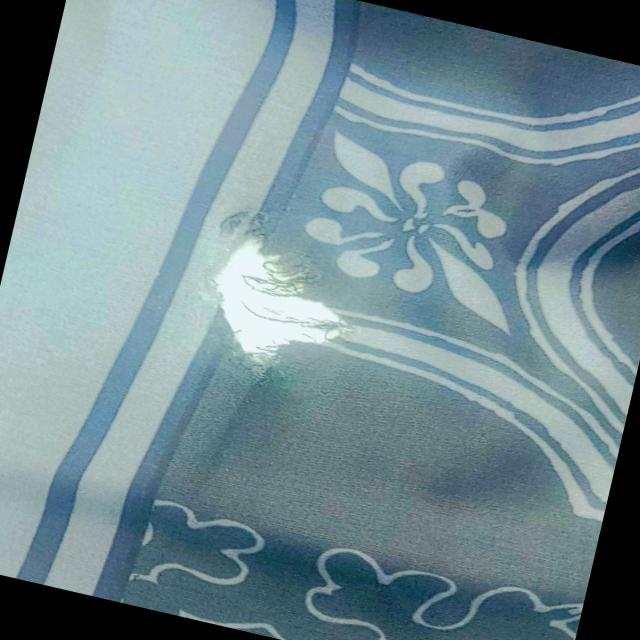cut: (165, 196, 392, 408)
